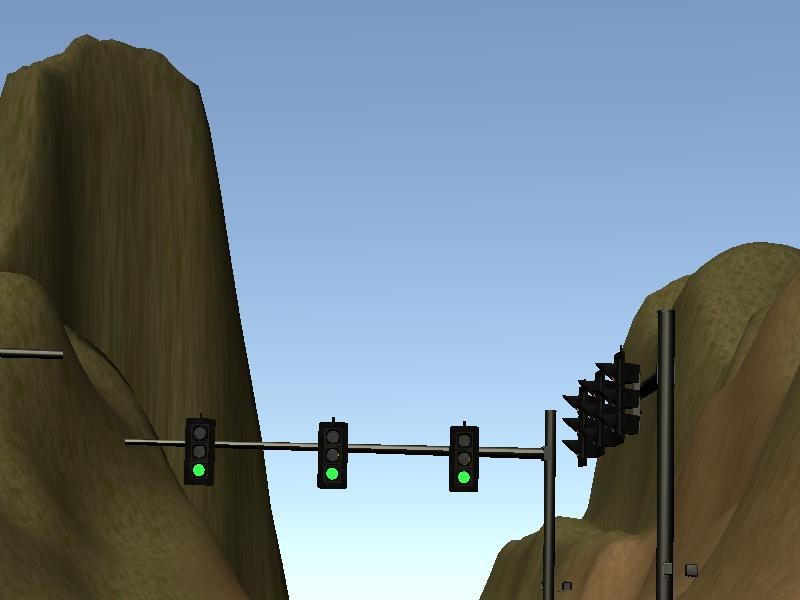GREEN: (316, 421, 348, 490), (184, 418, 216, 487), (448, 424, 480, 493)
